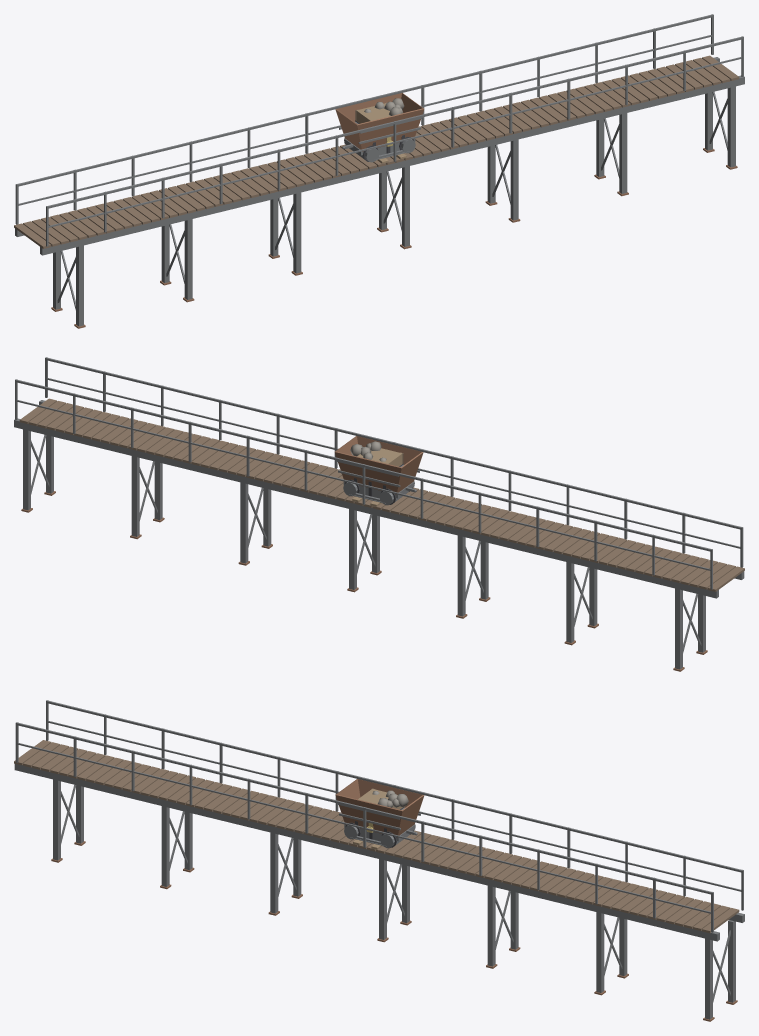
Rendered from under_cistern.glb.
3 views of the same model, one above another, from view 1: azimuth 30°, elevation 25°; view 2: azimuth 150°, elevation 25°; view 3: azimuth 330°, elevation 25° (orthographic).
Visible parts, largest first — view 1: uc_catwalk_mesh, uc_cart_mesh; view 2: uc_catwalk_mesh, uc_cart_mesh; view 3: uc_catwalk_mesh, uc_cart_mesh.
Boxes of the visible parts, bbox=[...] form: uc_catwalk_mesh: bbox=[14, 14, 744, 328]; uc_cart_mesh: bbox=[335, 93, 424, 162]; uc_catwalk_mesh: bbox=[14, 357, 744, 671]; uc_cart_mesh: bbox=[334, 436, 423, 505]; uc_catwalk_mesh: bbox=[14, 700, 744, 1021]; uc_cart_mesh: bbox=[335, 779, 424, 848].
Bounding box in the file's own units: 19.4 × 3.63 × 1.49.
